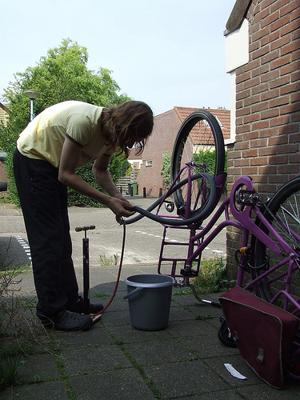person: (12, 99, 154, 330)
